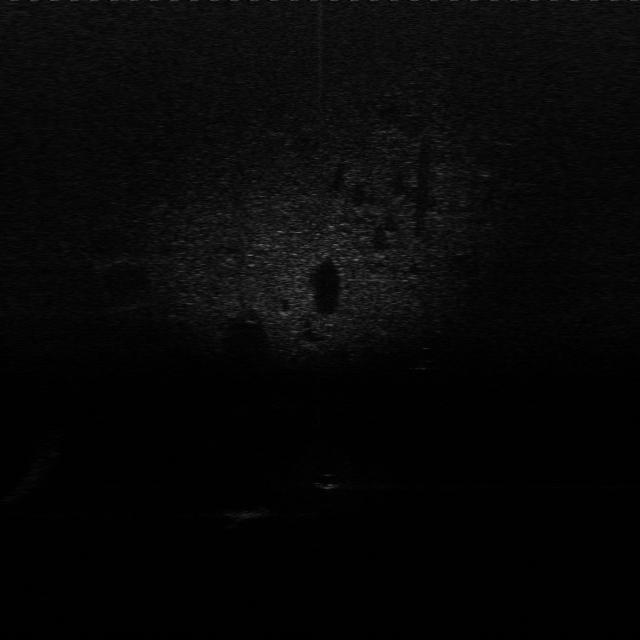ball: (313, 466, 347, 490)
square cage: (221, 506, 278, 524)
tyre: (412, 344, 438, 372)
